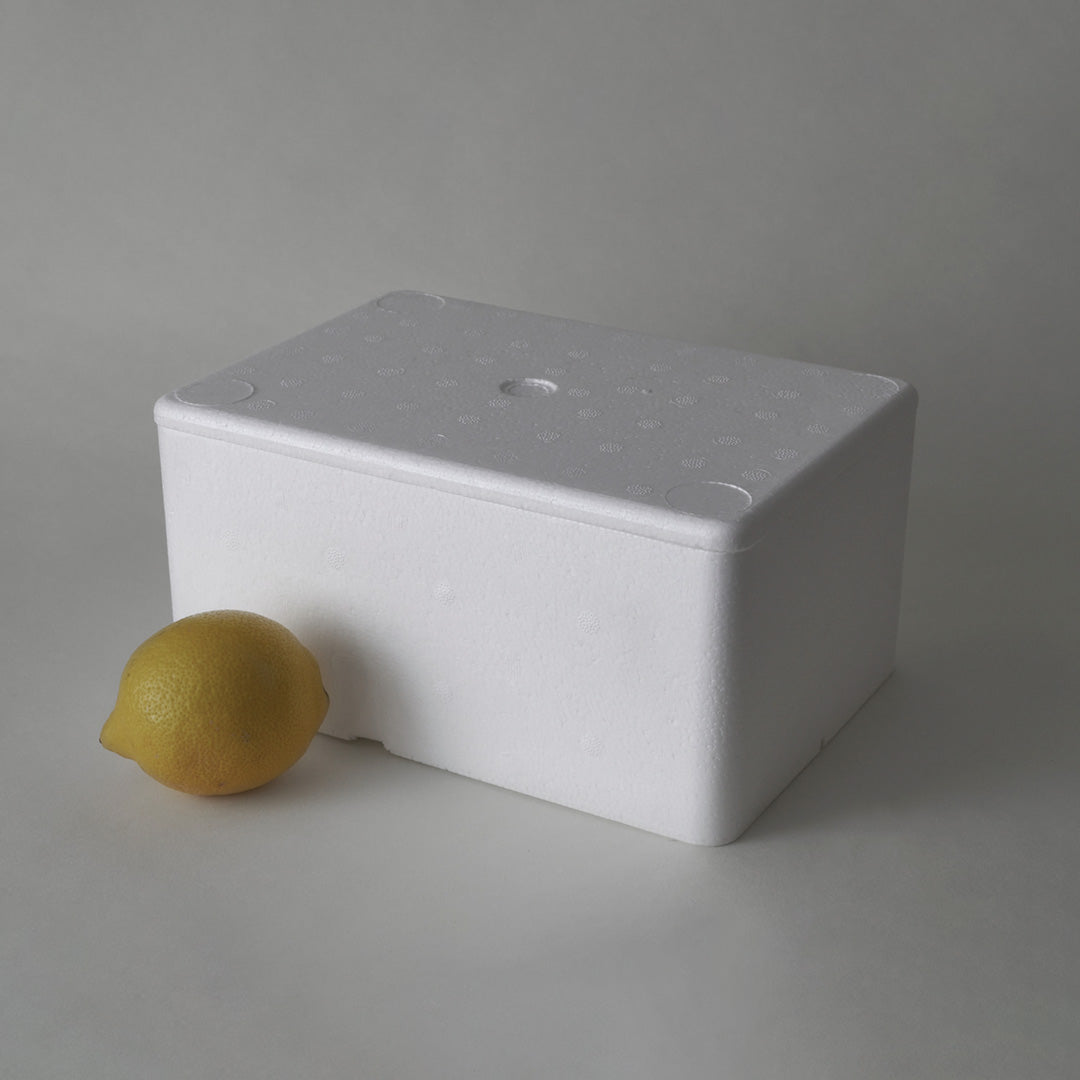Boxes: (155, 295, 915, 844)
